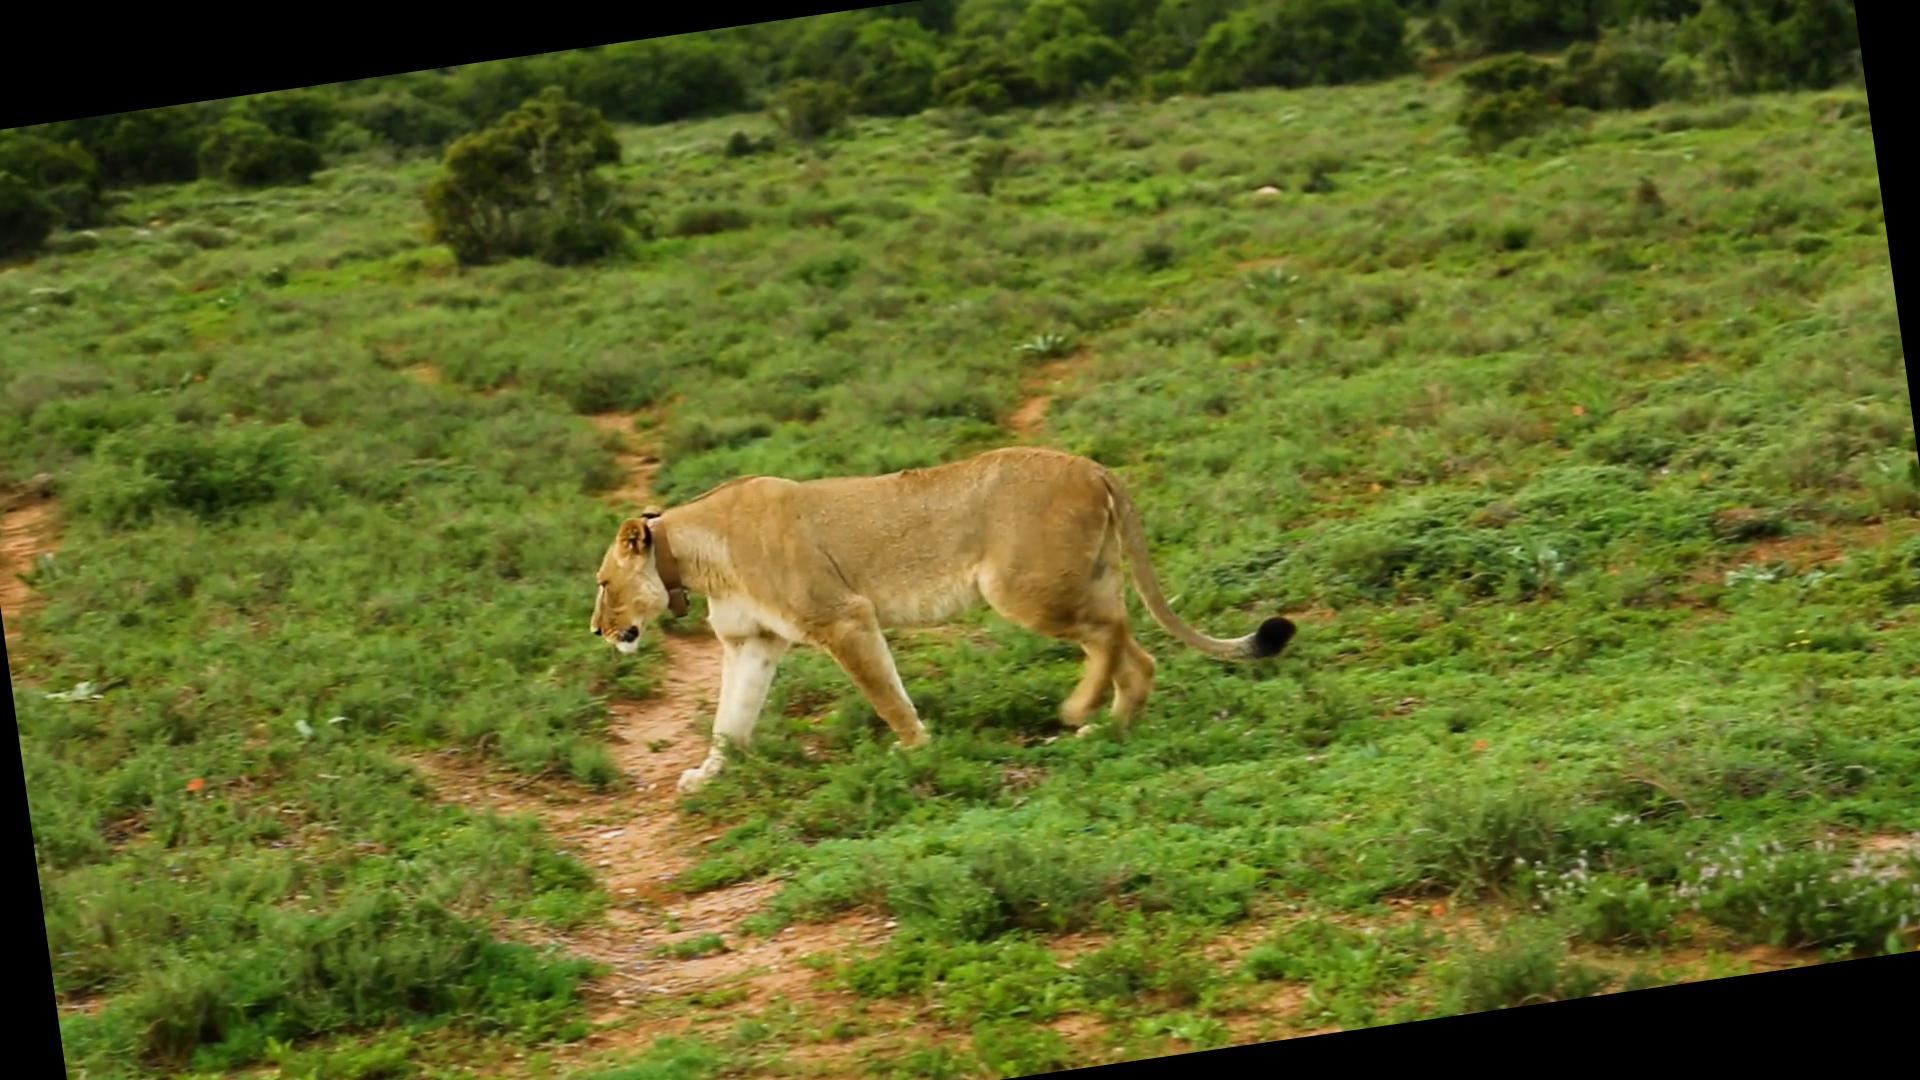lions: (550, 375, 1309, 815)
